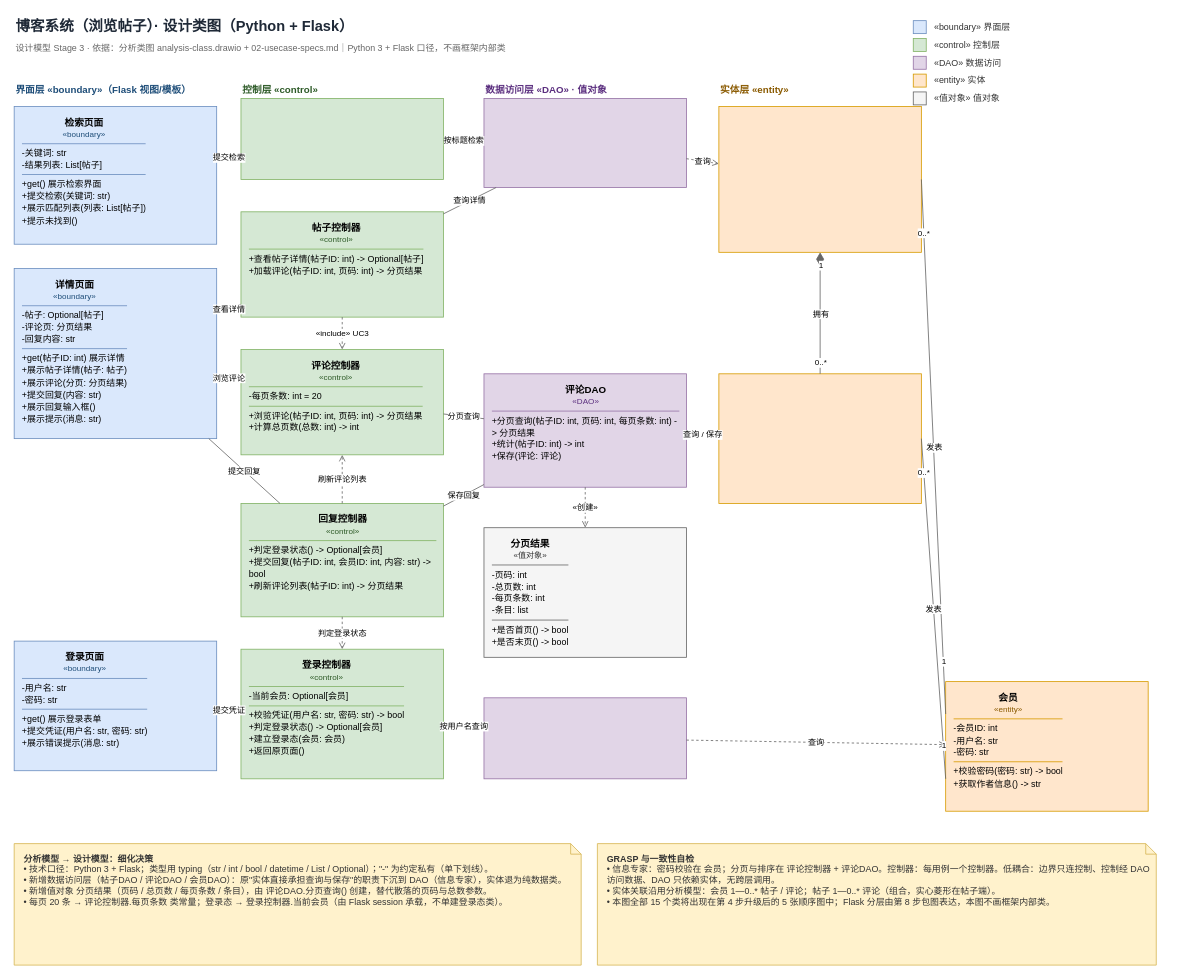
The diagram is 1190 pixels wide and 979 high, and some of its shapes have lost their labels. The centre of each missing label's shape, as x and y in pixels:
会员DAO «DAO» +按用户名查询(用户名: str) -> Optional[会员]: the point at 584,738
帖子 «entity» -帖子ID: int -标题: str -内容: str -发表时间: datetime -作者: 会员 +获取摘要() -> str: the point at 819,179
帖子DAO «DAO» +按标题匹配(关键词: str) -> List[帖子] +按ID查询(帖子ID: int) -> Optional[帖子]: the point at 584,143
检索控制器 «control» +检索帖子(关键词: str) -> List[帖子]: the point at 341,138
评论 «entity» -评论ID: int -内容: str -发表时间: datetime -作者: 会员 +获取内容() -> str: the point at 819,438
